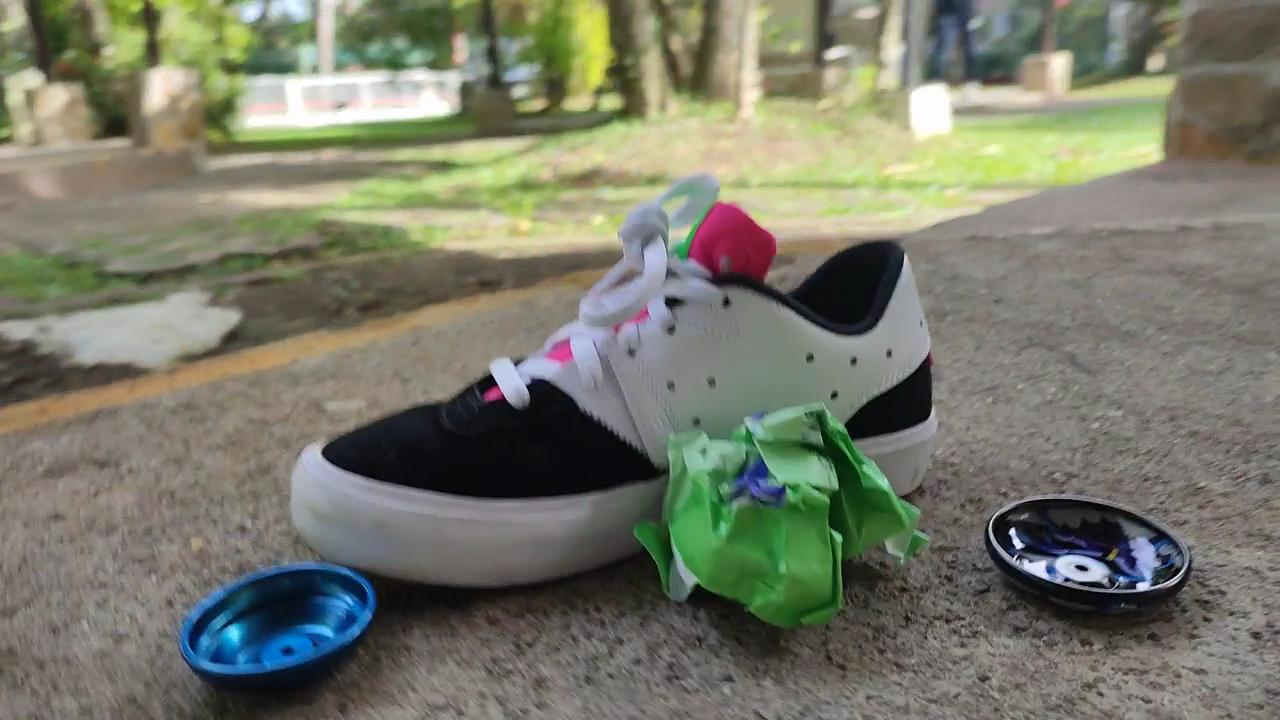Paper: (622, 400, 947, 638)
